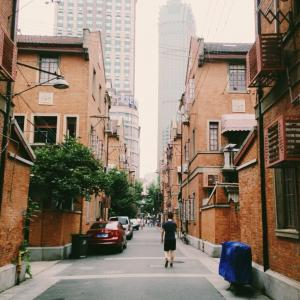Vehicle-registration-plate: (96, 234, 109, 239)
